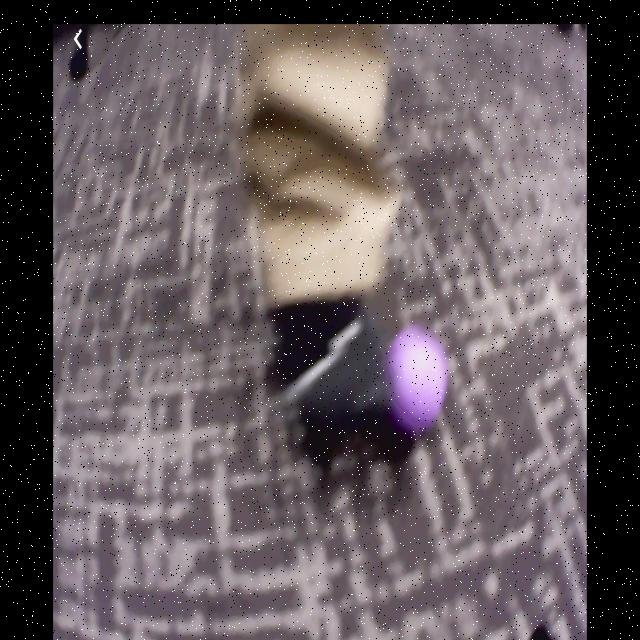ball: (389, 330, 449, 426)
